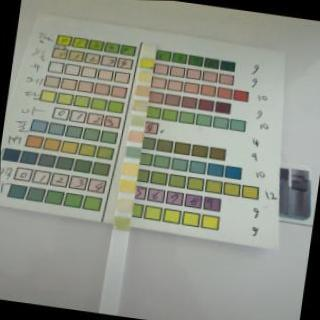mark: (118, 198, 133, 211), (126, 146, 142, 158), (115, 217, 129, 230), (124, 162, 138, 175), (120, 180, 135, 192), (134, 85, 149, 96), (129, 131, 143, 142), (133, 100, 146, 111), (137, 72, 150, 82), (140, 57, 153, 67), (131, 115, 143, 125), (142, 44, 152, 54)
